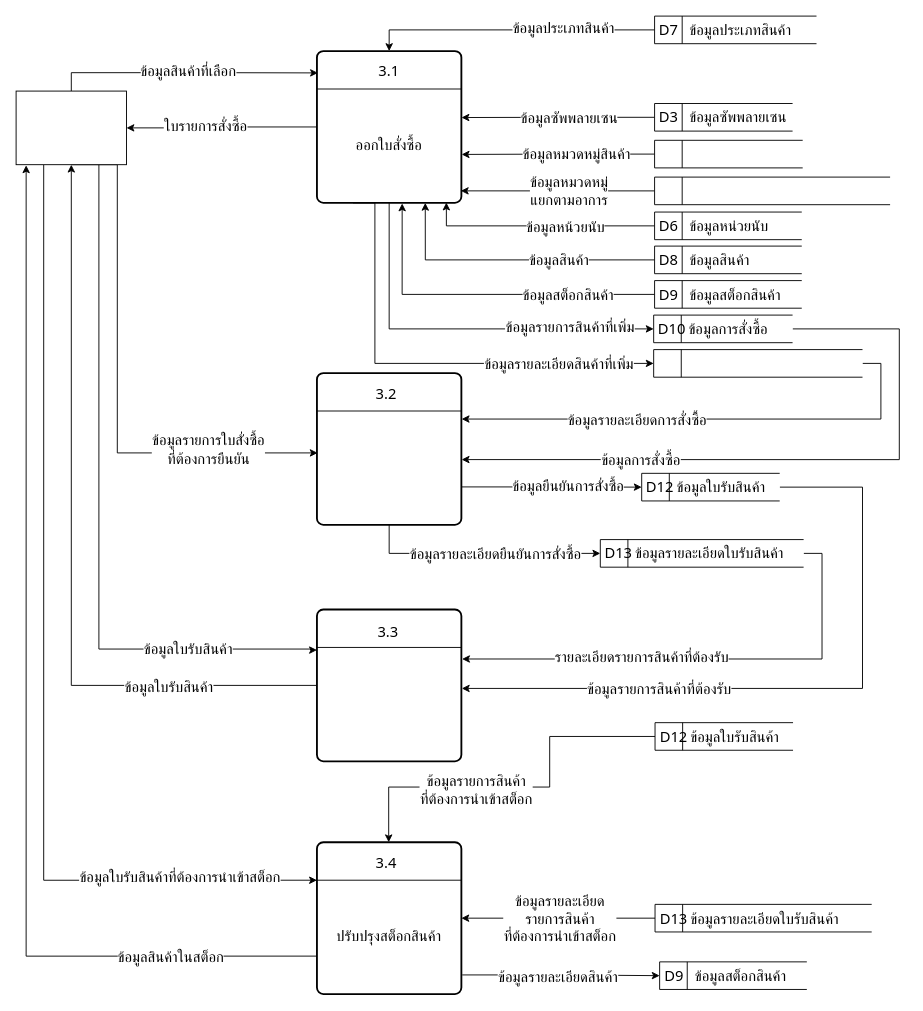
Image size: 923x1011. Some labels were removed from this diagram. The shapes that lost their labels are listed below. From the top down, each one's box as (x1, y1, x2, y2) in pixels, then its label:
(15, 90, 126, 165): เภสัชกร
(654, 139, 803, 168): D4 ข้อมูลหมวดหมู่สินค้า
(654, 176, 890, 205): D5 ข้อมูลหมวดหมู่แยกตามอาการ
(653, 349, 862, 377): D11 ข้อมูลรายละเอียดการสั่งซื้อ
(316, 372, 462, 525): ยืนยันการสั่งซื้อ
(316, 608, 462, 762): ตรวจรับสินค้า
